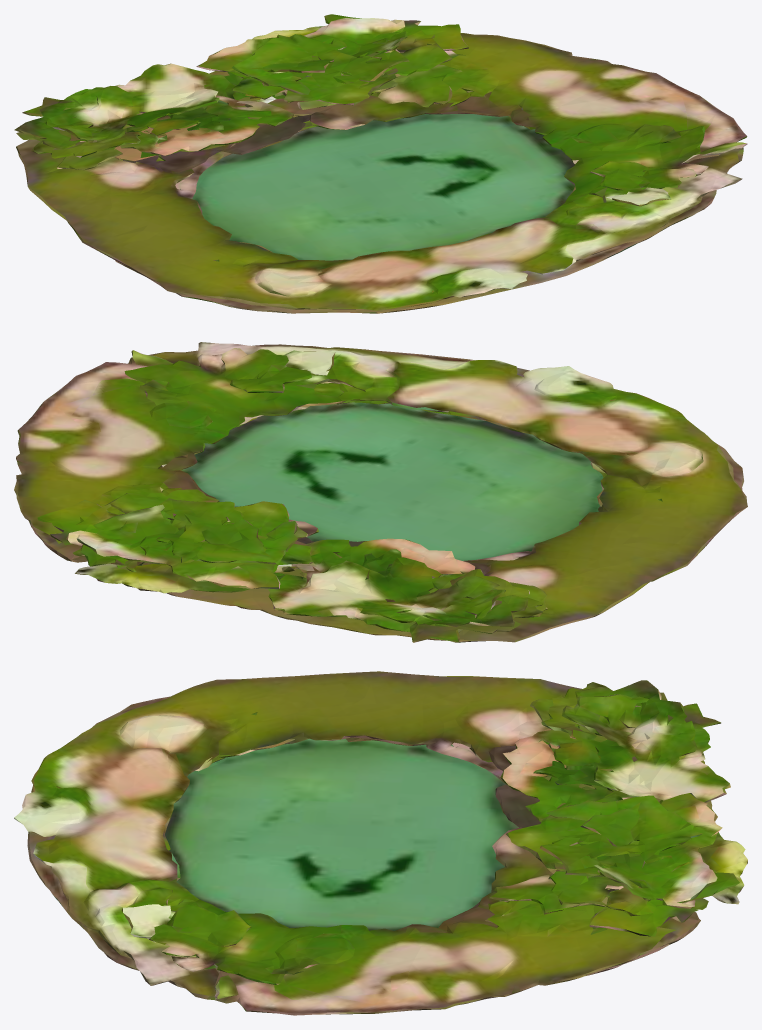
File: wt-village-pond.glb
3 views of the same model, one above another, from view 1: azimuth 30°, elevation 25°; view 2: azimuth 150°, elevation 25°; view 3: azimuth 270°, elevation 25° (orthographic). The views are drawn at different scales.
Parts seen in each view (by area): view 1: tmplk5pbd98.ply; view 2: tmplk5pbd98.ply; view 3: tmplk5pbd98.ply.
Part boxes in pixels (x1,y1,x2,y2): tmplk5pbd98.ply: (14,14,747,313); tmplk5pbd98.ply: (14,342,747,642); tmplk5pbd98.ply: (14,671,747,1015).
Size of the model in its own units: 4.86 by 0.26 by 4.38.
1 material, 1 textured.
